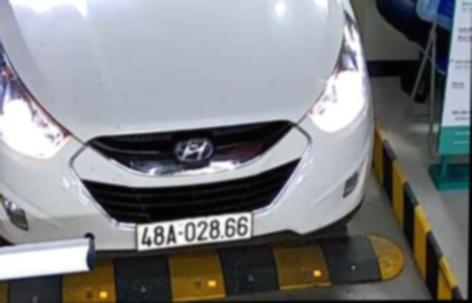License_Plate: (133, 214, 255, 249)
